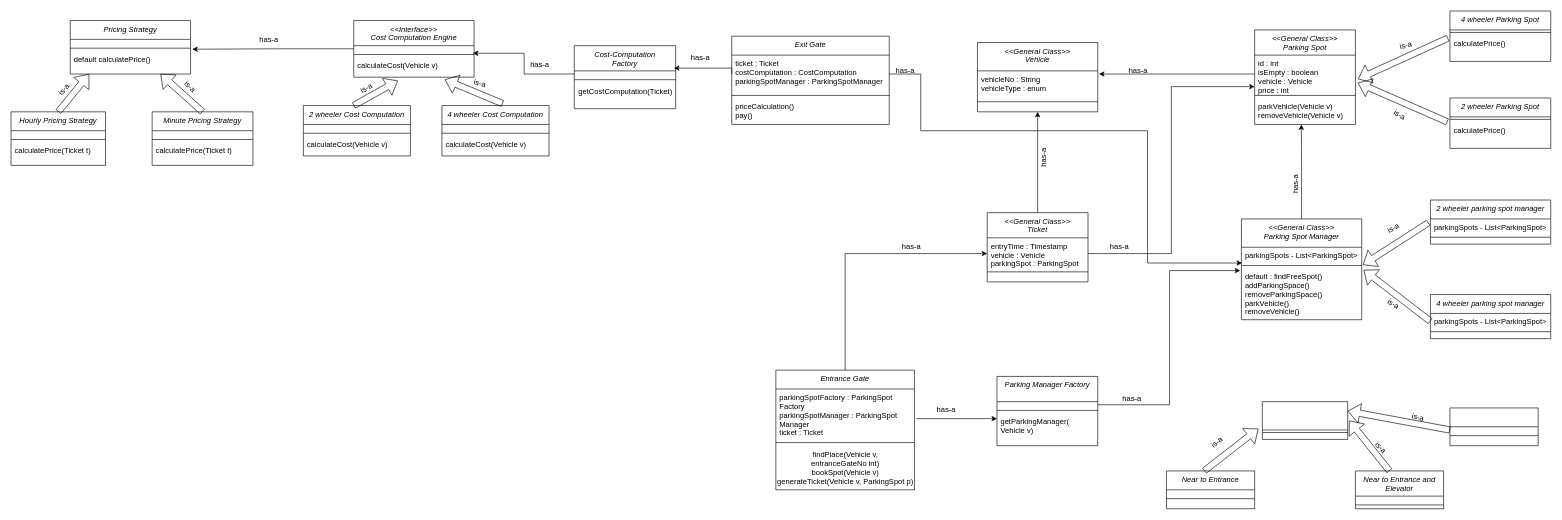
The diagram is 1562 pixels wide and 520 high, and some of its shapes have lost their labels. Here are the shapes that lost their labels. From the top down, the centre of each, then its label:
the point at 1305,420: Parking Strategy
the point at 1493,426: Default
